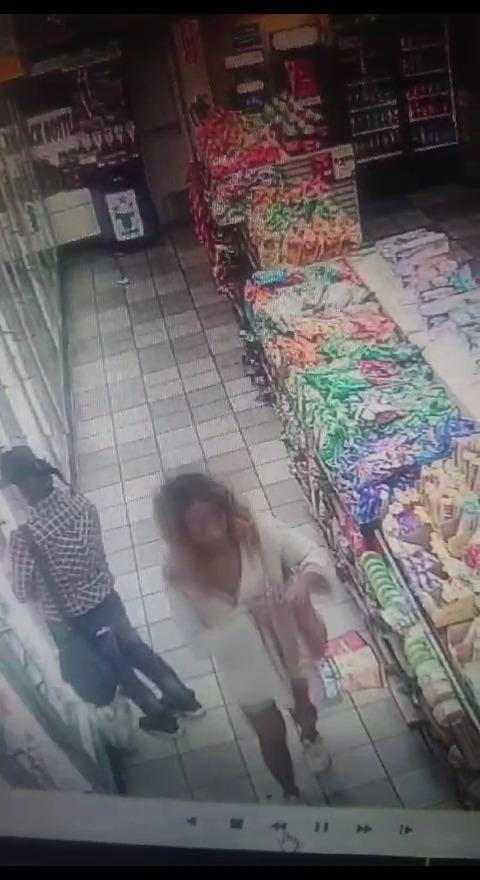Normal: (0, 448, 187, 776)
shoplifting: (162, 460, 338, 781)
